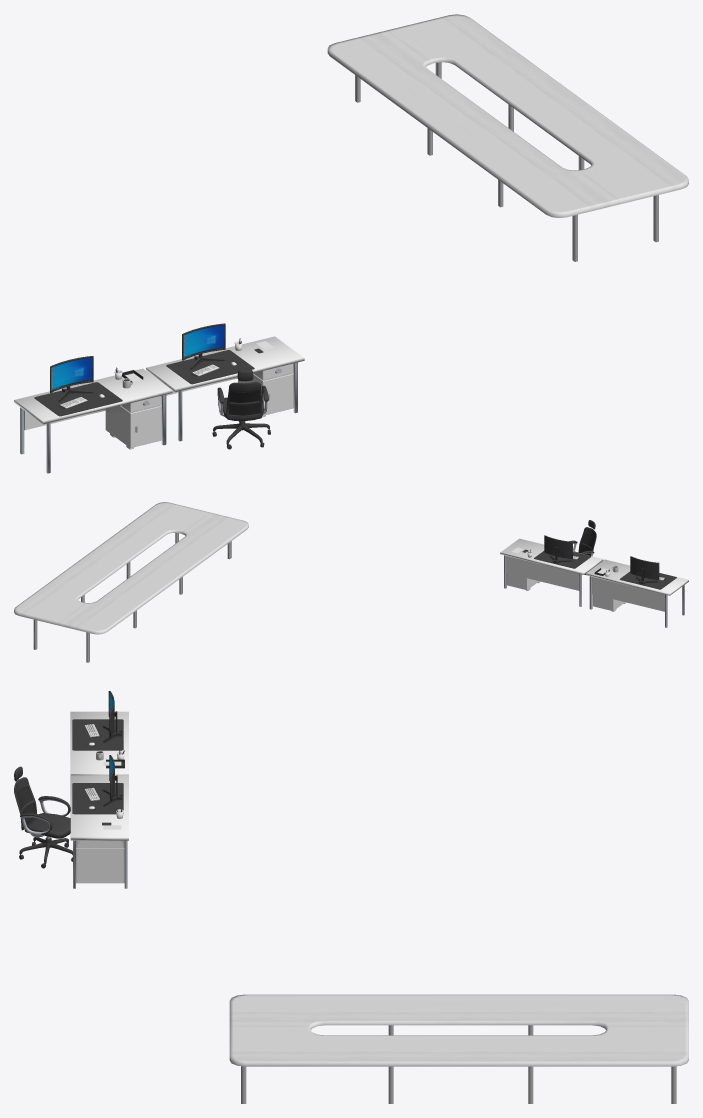
Rendered from Office.fbx.
The picture shows the model from 3 angles, top to bottom: view 1: azimuth 30°, elevation 25°; view 2: azimuth 150°, elevation 25°; view 3: azimuth 270°, elevation 25°; orthographic projection. The views are drawn at different scales.
Visible parts, largest first — view 1: conferenceTable.001_details_0, table.005_desk_0, chair.012_desk_0, table.011_emmisive_0, table.010_emmisive_0; view 2: conferenceTable.001_details_0, table.005_desk_0, table.010_desk_0, table.011_desk_0, chair.012_desk_0; view 3: conferenceTable.001_details_0, table.005_desk_0, chair.012_desk_0.
Boxes of the visible parts, box(x1,y1,x2,y2) form: conferenceTable.001_details_0: box(327, 14, 688, 261); table.005_desk_0: box(14, 336, 304, 473); chair.012_desk_0: box(212, 369, 270, 449); table.011_emmisive_0: box(183, 325, 224, 358); table.010_emmisive_0: box(51, 357, 92, 391); conferenceTable.001_details_0: box(14, 502, 248, 662); table.005_desk_0: box(500, 538, 688, 627); table.010_desk_0: box(630, 556, 659, 584); table.011_desk_0: box(544, 535, 572, 563); chair.012_desk_0: box(569, 520, 596, 574); conferenceTable.001_details_0: box(229, 994, 688, 1103); table.005_desk_0: box(70, 711, 128, 888); chair.012_desk_0: box(14, 766, 72, 868).
Bounding box in the file's own units: 1221 × 141 × 987.
Materials: 3 (3 with a texture image).
